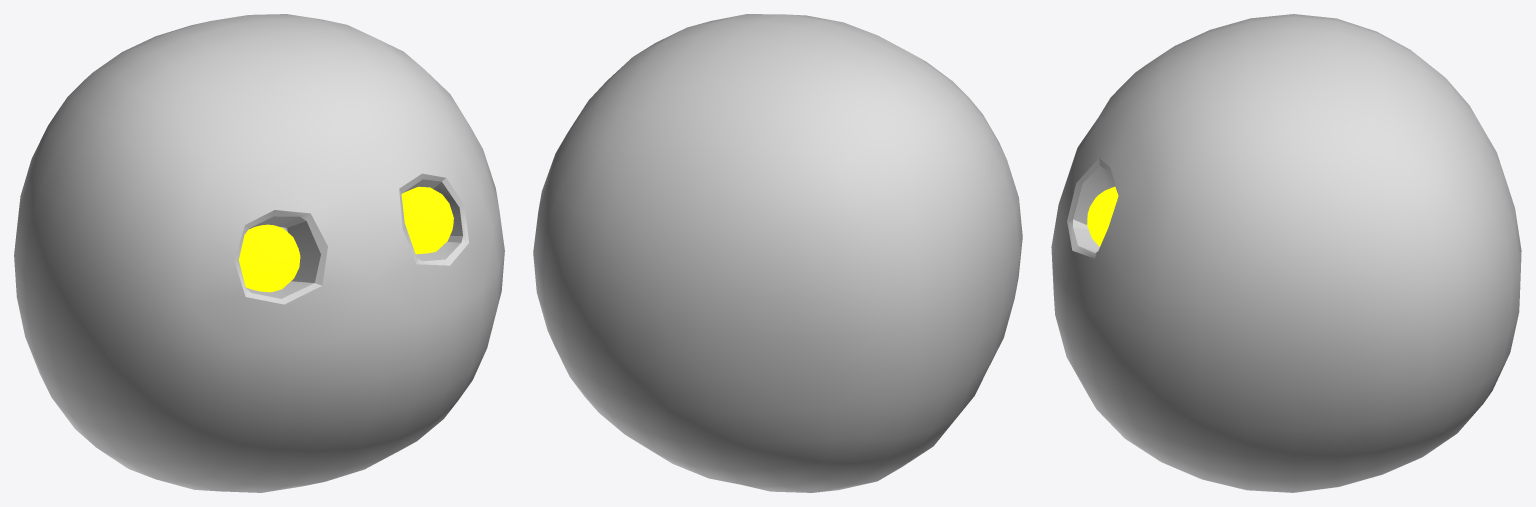
Rendered from Enemy(King).fbx.
The picture shows the model from 3 angles, left to right: view 1: azimuth 30°, elevation 25°; view 2: azimuth 150°, elevation 25°; view 3: azimuth 270°, elevation 25°; orthographic projection.
Visible parts, largest first — view 1: Cube; view 2: Cube; view 3: Cube.
Boxes of the visible parts, x1,y1,x2,y2 form: Cube: (14, 14, 504, 492); Cube: (533, 14, 1022, 492); Cube: (1051, 14, 1521, 492).
Bounding box in the file's own units: 173 × 169 × 170.
